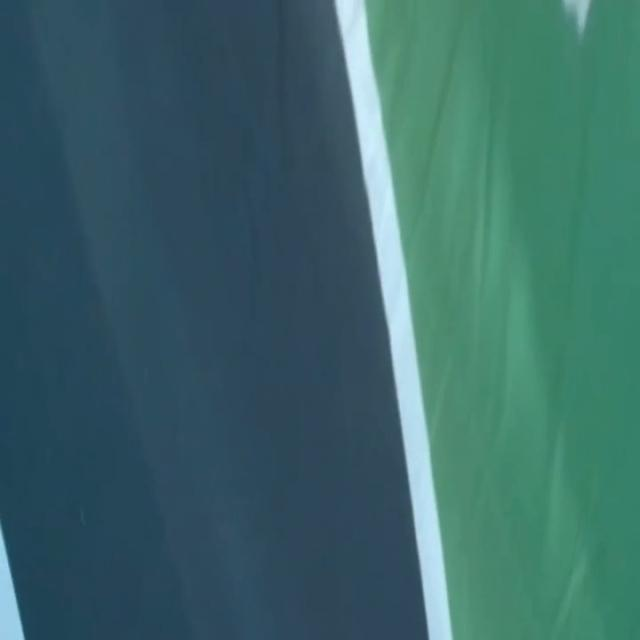center: (0, 527, 24, 639)
right: (335, 0, 452, 639)
